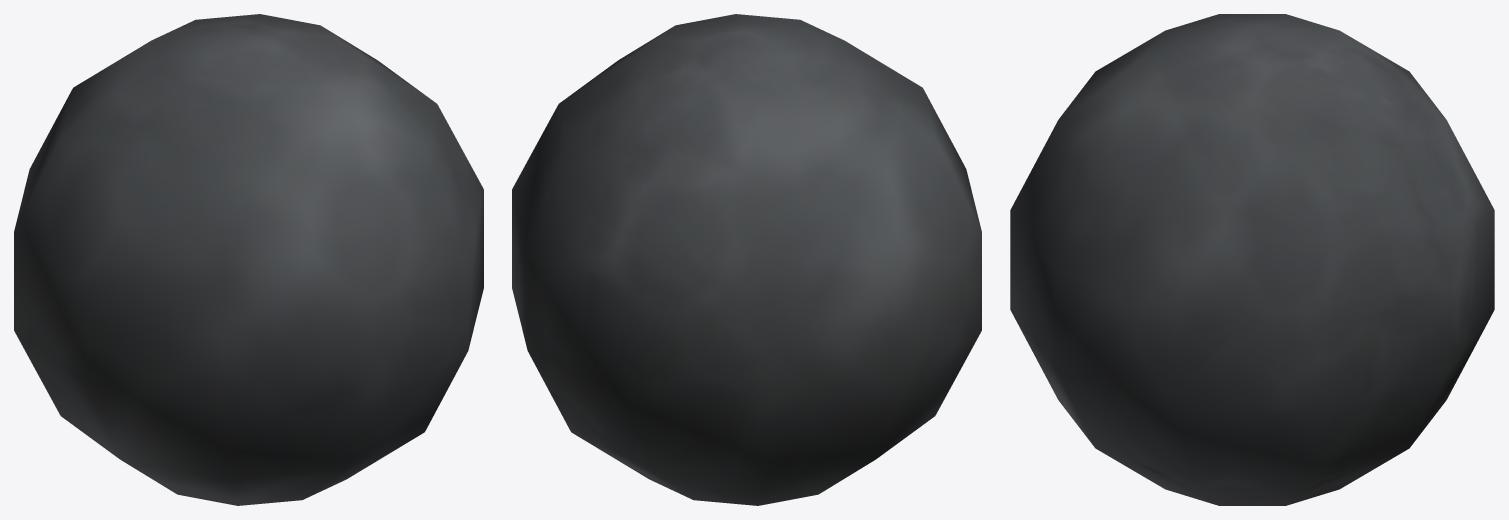
Rendered from SM_TowerDefense_Cannon_Weapon_Cannonball.fbx.
3 renders of one model, left to right at view 1: azimuth 30°, elevation 25°; view 2: azimuth 150°, elevation 25°; view 3: azimuth 270°, elevation 25°, orthographic.
Visible parts, largest first — view 1: SM_TowerDefense_Cannon_Weapon_Cannonball; view 2: SM_TowerDefense_Cannon_Weapon_Cannonball; view 3: SM_TowerDefense_Cannon_Weapon_Cannonball.
Boxes of the visible parts, x1=… form: SM_TowerDefense_Cannon_Weapon_Cannonball: x1=14, y1=14, x2=483, y2=505; SM_TowerDefense_Cannon_Weapon_Cannonball: x1=512, y1=14, x2=981, y2=505; SM_TowerDefense_Cannon_Weapon_Cannonball: x1=1010, y1=14, x2=1494, y2=505.
Bounding box in the file's own units: 111 × 119 × 116.
